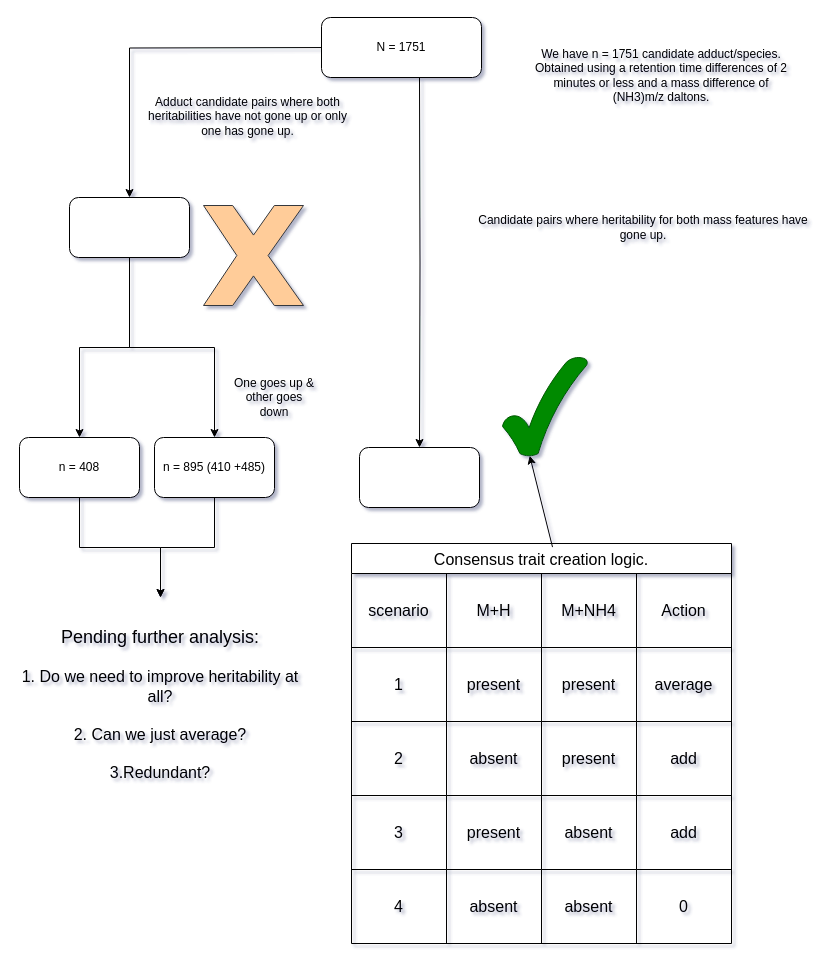
Image size: 836x967. Some labels were removed from this diagram. Here are the shapes that lost their labels. From the top down, the centre of each, then its label:
At pixel 129 227: "n = 1303".
At pixel 419 477: "n = 448".
